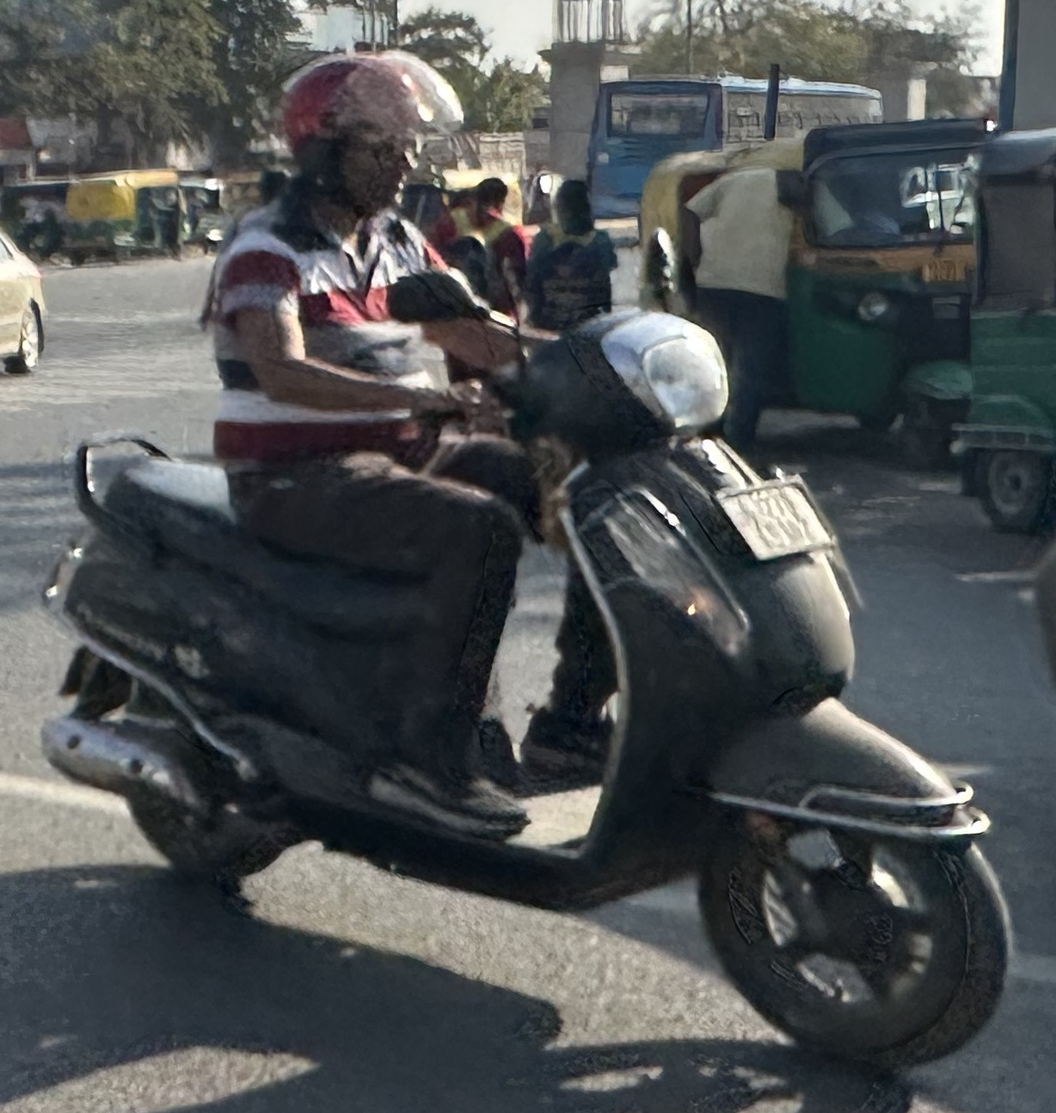BikeWithRider: (32, 36, 1032, 1084)
Helmet: (259, 41, 462, 227)
